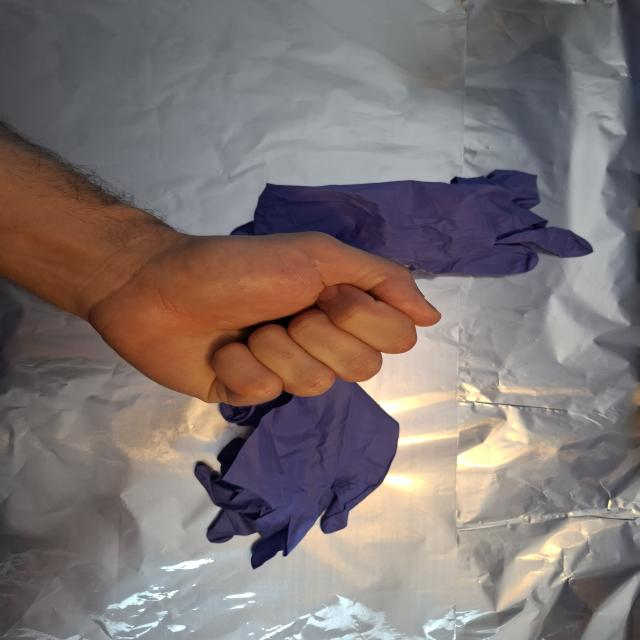glove_off: (83, 227, 444, 409)
